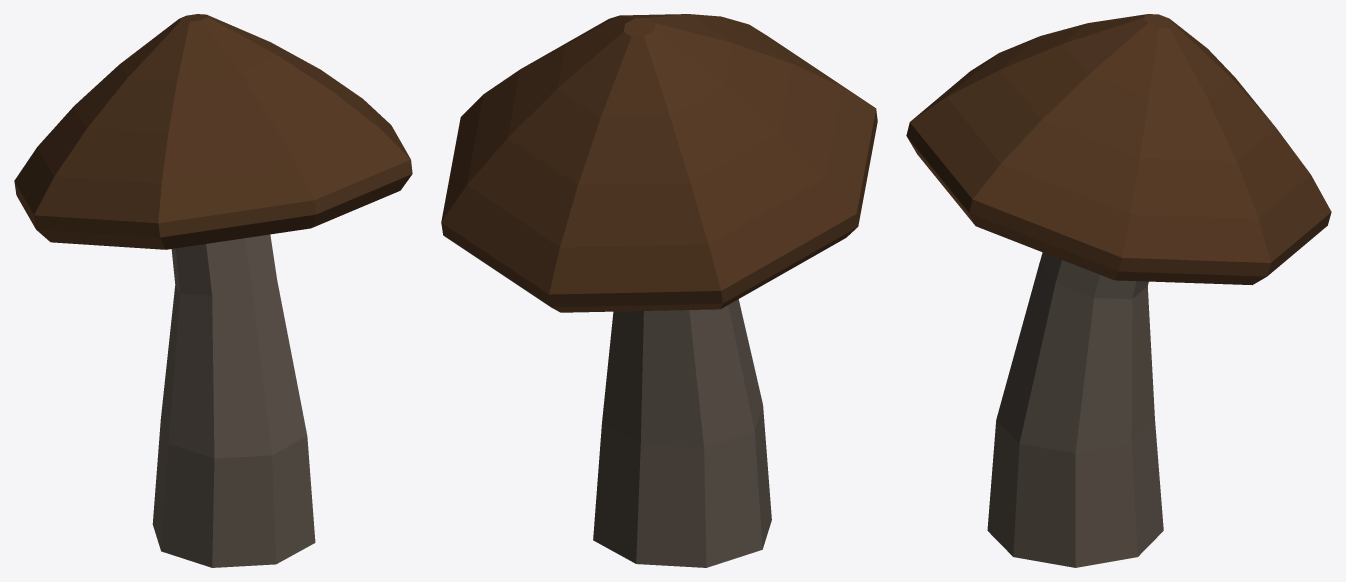
Rendered from Mushroom3.fbx.
3 views of the same model, side by side, from view 1: azimuth 30°, elevation 25°; view 2: azimuth 150°, elevation 25°; view 3: azimuth 270°, elevation 25° (orthographic). The views are drawn at different scales.
Visible parts, largest first — view 1: Circle; view 2: Circle; view 3: Circle.
Boxes of the visible parts, x1,y1,x2,y2 form: Circle: (14,14,412,567); Circle: (441,14,877,567); Circle: (906,14,1331,567).
Size of the model in its own units: 178 by 233 by 175.
